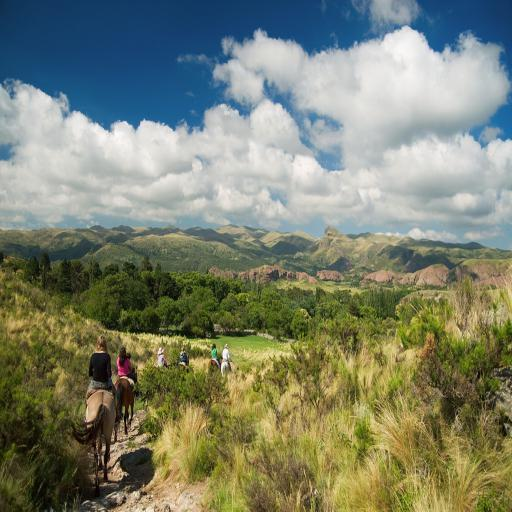horse: (70, 390, 116, 488), (112, 376, 139, 436), (218, 361, 230, 376), (207, 358, 218, 374)
